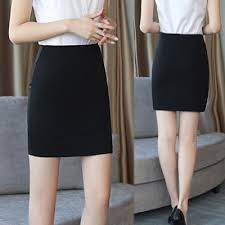F_tailored skirt: (23, 42, 113, 159), (148, 29, 210, 118)
